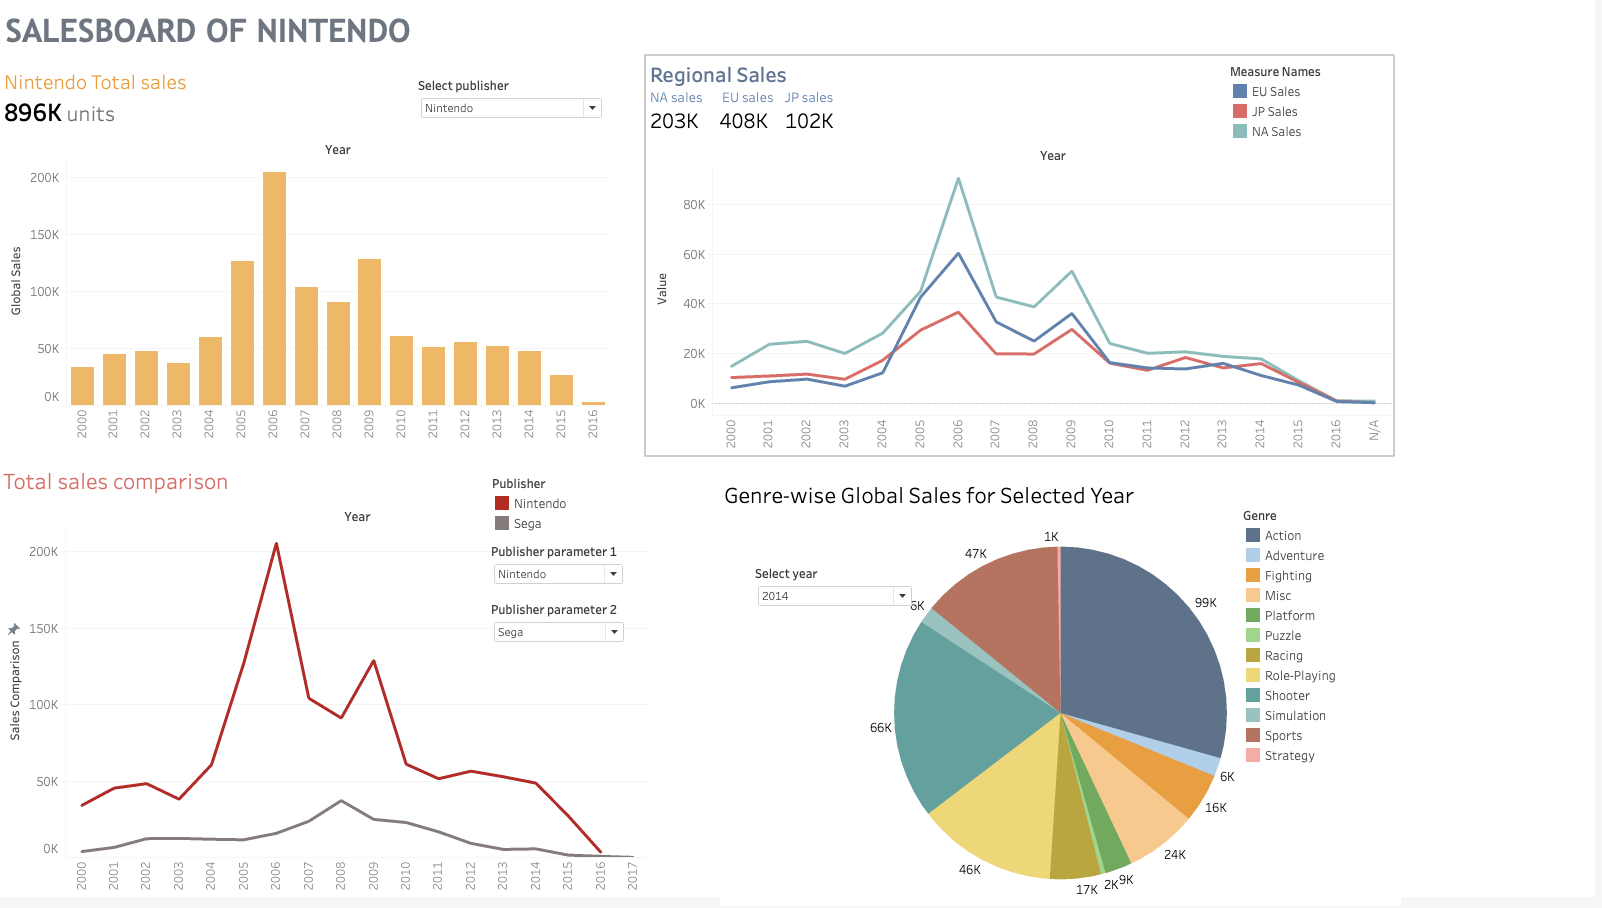

Layout of this report page (visuals, bound fields, positions):
{"tool":"tableau","page":{"name":"NINTENDO SALES DASHBOARD","canvas":[1600,900],"ordinal":0},"visuals":[{"type":"title","box":[4,11,627,46]},{"type":"worksheet","title":"Regional Sales ","mark":"Line","cols":["Year"],"box":[651,59,747,399]},{"type":"legend","title":"Regional Sales ","param":"[federated.089bydl1sqp6rb1edrw730wdjshc].[:Measure Names]","box":[1235,66,164,91]},{"type":"worksheet","title":"Nintendo global sales","mark":"Bar","rows":["Global_Sales"],"cols":["Year"],"box":[4.7,66.8,609.1,380.9]},{"type":"parameter","param":"[Parameters].[Parameter 5]","box":[423,80,187,52]},{"type":"worksheet","title":"Total sales comparison","mark":"Line","rows":["Global_Sales"],"cols":["Year"],"box":[3.5,465.2,650.1,434.8]},{"type":"legend","title":"Total sales comparison","param":"[federated.089bydl1sqp6rb1edrw730wdjshc].[none:Publisher:nk]","box":[497,478,164,68]},{"type":"parameter","param":"[Parameters].[Parameter 4]","box":[496,546,135,67]},{"type":"parameter","param":"[Parameters].[Parameter 7]","box":[728,559,160,44]},{"type":"parameter","param":"[Parameters].[Publisher parameter 1 (copy)_252905317239021571]","box":[496,604,136,75]}]}

Visuals, with their boxes in screenshot pixels (x1, y1, x2, y2), scaled from the page's 1600x900 canvas onto the 1602x908 screenshot:
title: 4, 11, 632, 58
"Regional Sales " worksheet (Line marks): 652, 60, 1400, 462
"Regional Sales " legend: 1237, 67, 1401, 158
"Nintendo global sales" worksheet (Bar marks): 5, 67, 615, 452
parameter: 424, 81, 611, 133
"Total sales comparison" worksheet (Line marks): 4, 469, 654, 907
"Total sales comparison" legend: 498, 482, 662, 551
parameter: 497, 551, 632, 618
parameter: 729, 564, 889, 608
parameter: 497, 609, 633, 685
